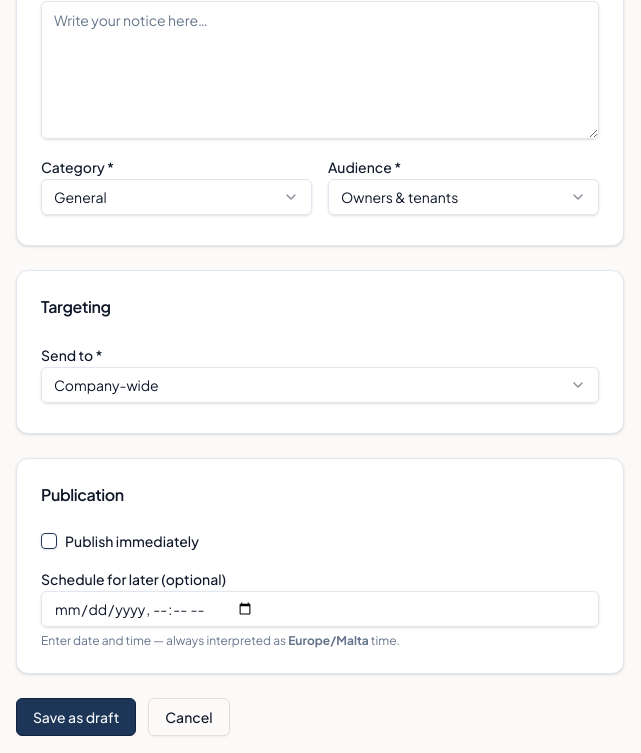
Scenario: Suite 38-05: Scheduled-date validation (Malta timezone) › shows Malta time preview label when a valid future date is entered
The width and height of the screenshot is (641, 753).
(page scrolled)
// A date well in the future (summer)
Type "2099-07-15T10:00" into the field labelled "Schedule for later (optional)" at point(320, 609), box [41, 591, 599, 627]
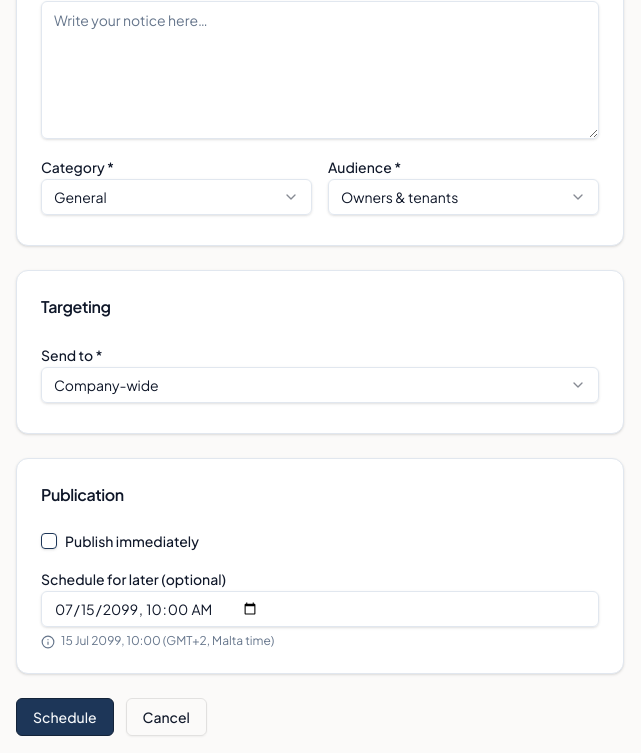
Expected: the text "15 Jul 2099, 10:00 (GMT+2, Malta time)" is shown, [61, 633, 274, 649]
